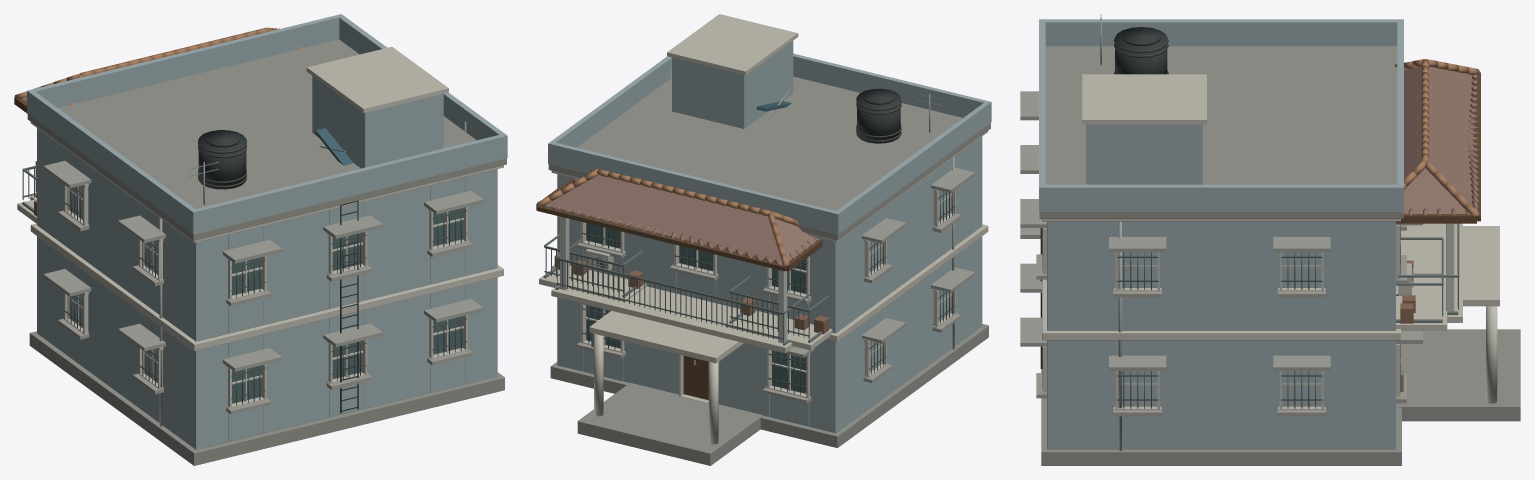
Rendered from balcony_villa.glb.
3 renders of one model, left to right at view 1: azimuth 30°, elevation 25°; view 2: azimuth 150°, elevation 25°; view 3: azimuth 270°, elevation 25°, orthographic. The views are drawn at different scales.
Visible parts, largest first — view 1: balcony_villa; view 2: balcony_villa; view 3: balcony_villa.
Part boxes in pixels (box(x1,y1,x2,y2)): balcony_villa: box(14, 14, 507, 465); balcony_villa: box(536, 14, 991, 465); balcony_villa: box(1020, 14, 1520, 465).
Bounding box in the file's own units: 10.53 × 8.66 × 12.05.
